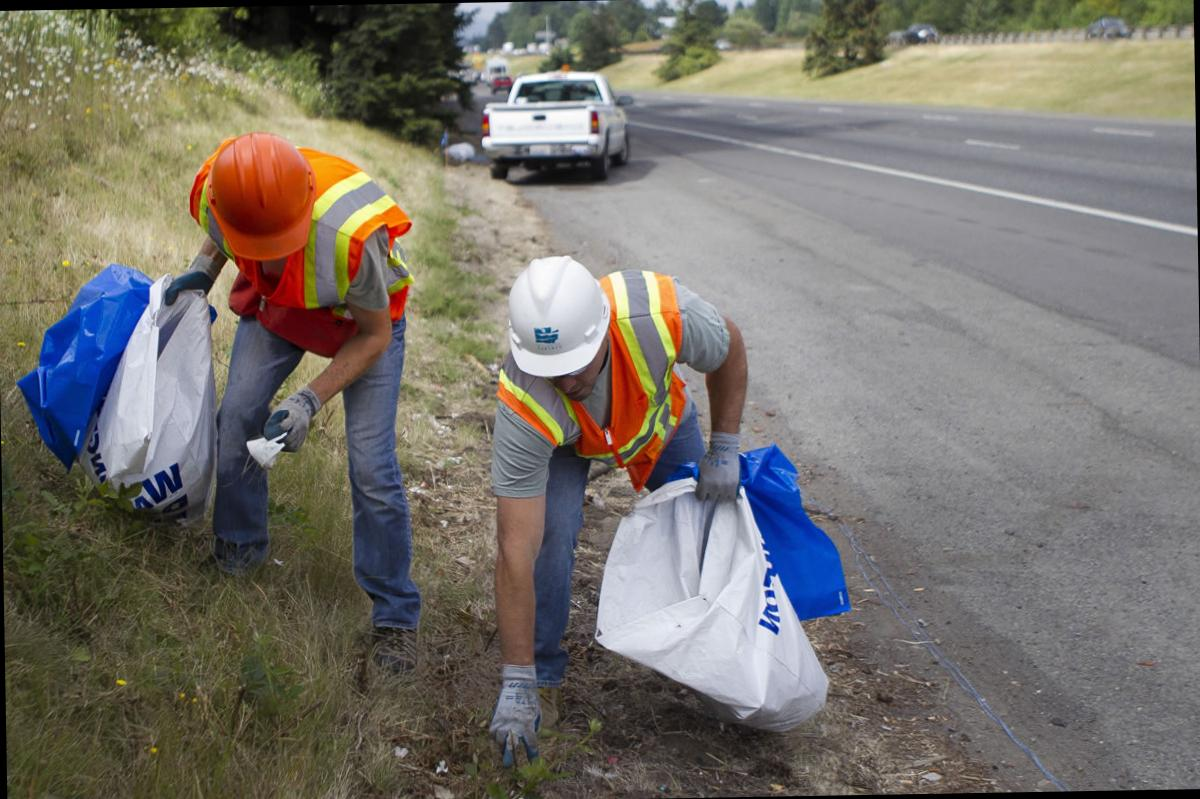road: (517, 93, 1200, 787)
trash: (595, 479, 828, 730), (78, 275, 216, 523), (16, 264, 153, 470)
